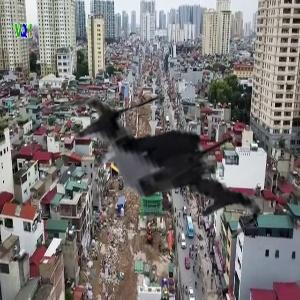drone: (64, 54, 276, 266)
